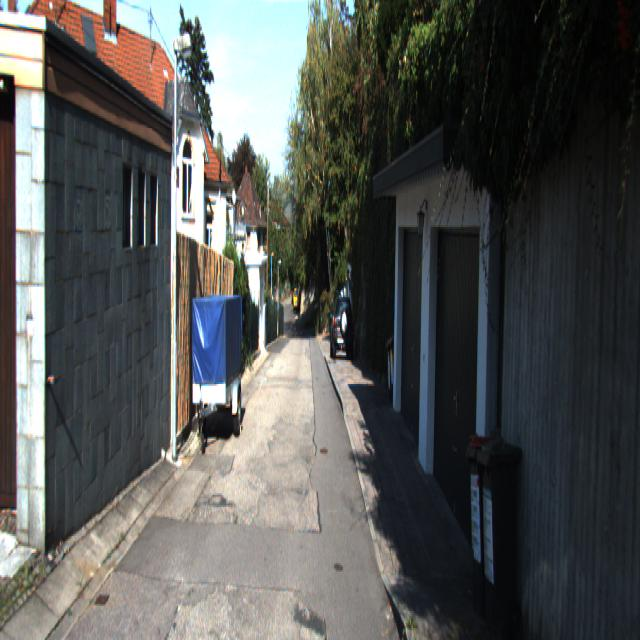Car: (191, 294, 243, 452), (329, 295, 355, 362)
